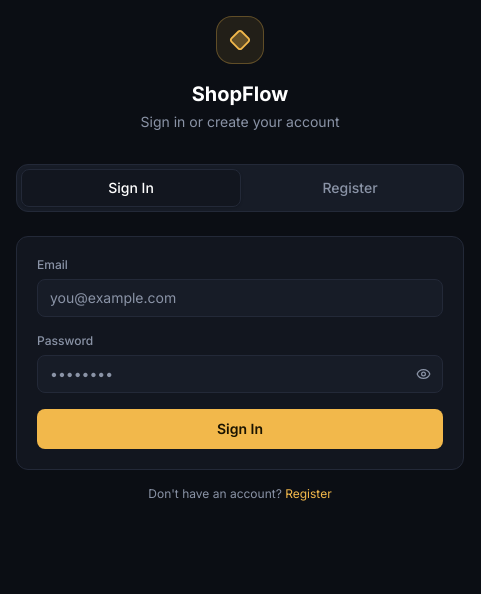
AuthPage — Layout › switches to Register form
Click the 1st button "Register". click: (350, 188)
box: [241,169,459,207]
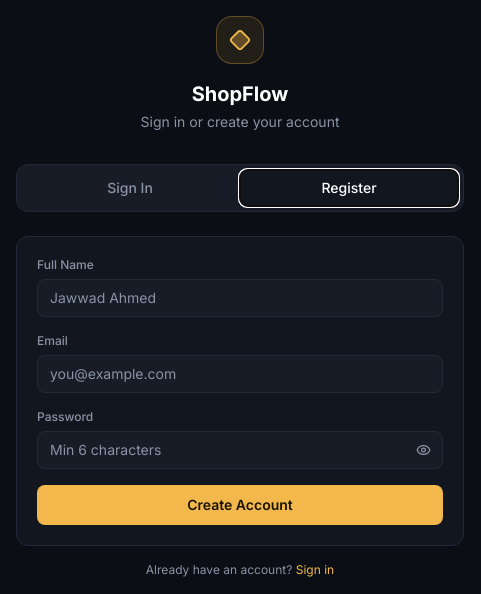
Check: the field with placeholder "Jawwad Ahmed" is shown, box [37,279,443,317]
